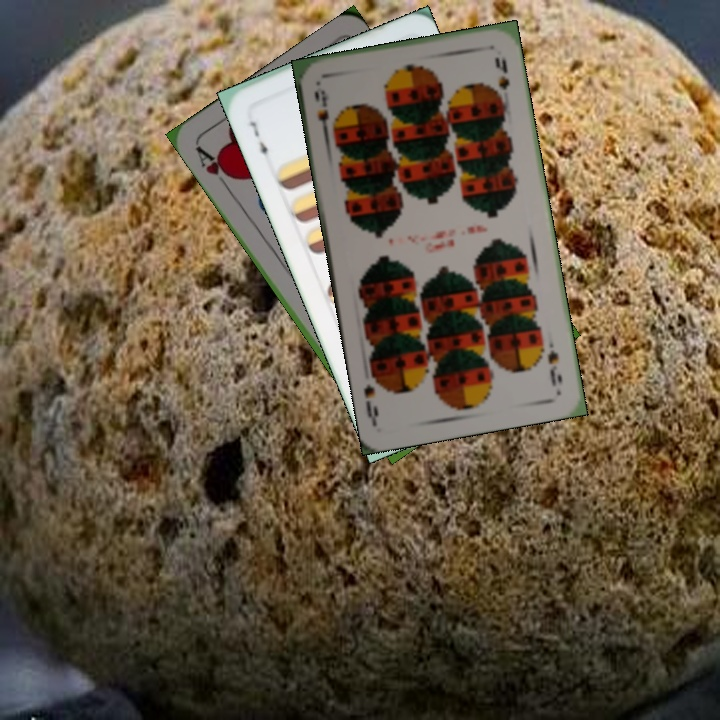E7: (245, 116, 271, 164)
HA: (191, 142, 237, 193)
S9: (310, 86, 332, 140), (543, 346, 565, 389)
